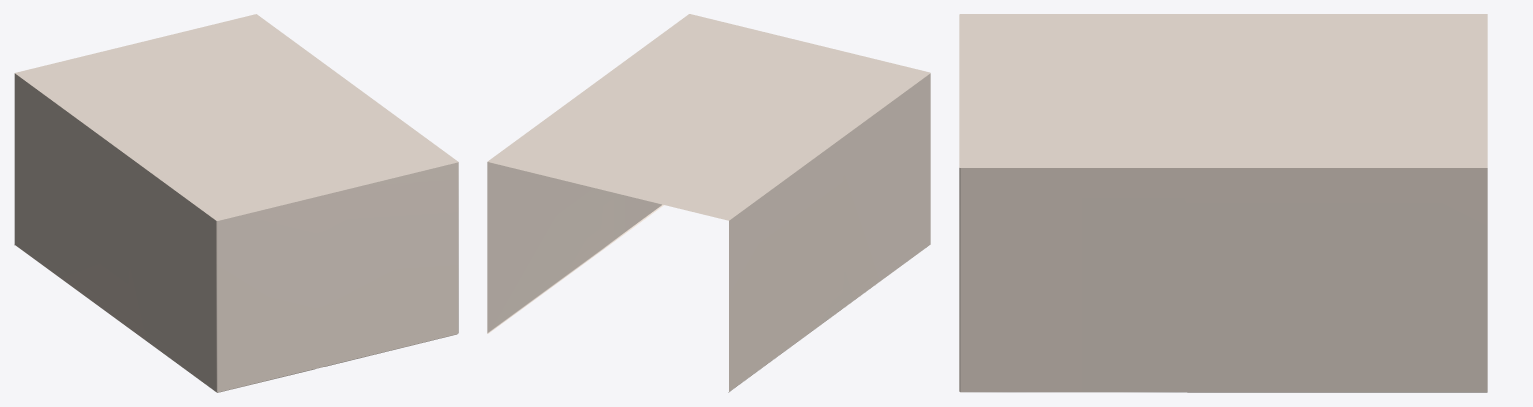
File: FridgebodymeshFridgeD2_0_GeomSubset_0.obj
3 views of the same model, side by side, from view 1: azimuth 30°, elevation 25°; view 2: azimuth 150°, elevation 25°; view 3: azimuth 270°, elevation 25° (orthographic). The views are drawn at different scales.
Parts seen in each view (by area): view 1: FridgebodymeshFridgeD2_0_GeomSubset_0; view 2: FridgebodymeshFridgeD2_0_GeomSubset_0; view 3: FridgebodymeshFridgeD2_0_GeomSubset_0.
Part boxes in pixels (x1,y1,x2,y2): FridgebodymeshFridgeD2_0_GeomSubset_0: (14, 14, 458, 392); FridgebodymeshFridgeD2_0_GeomSubset_0: (487, 14, 930, 392); FridgebodymeshFridgeD2_0_GeomSubset_0: (959, 14, 1487, 392).
Bounding box in the file's own units: 1.01 × 0.6879 × 1.55.
